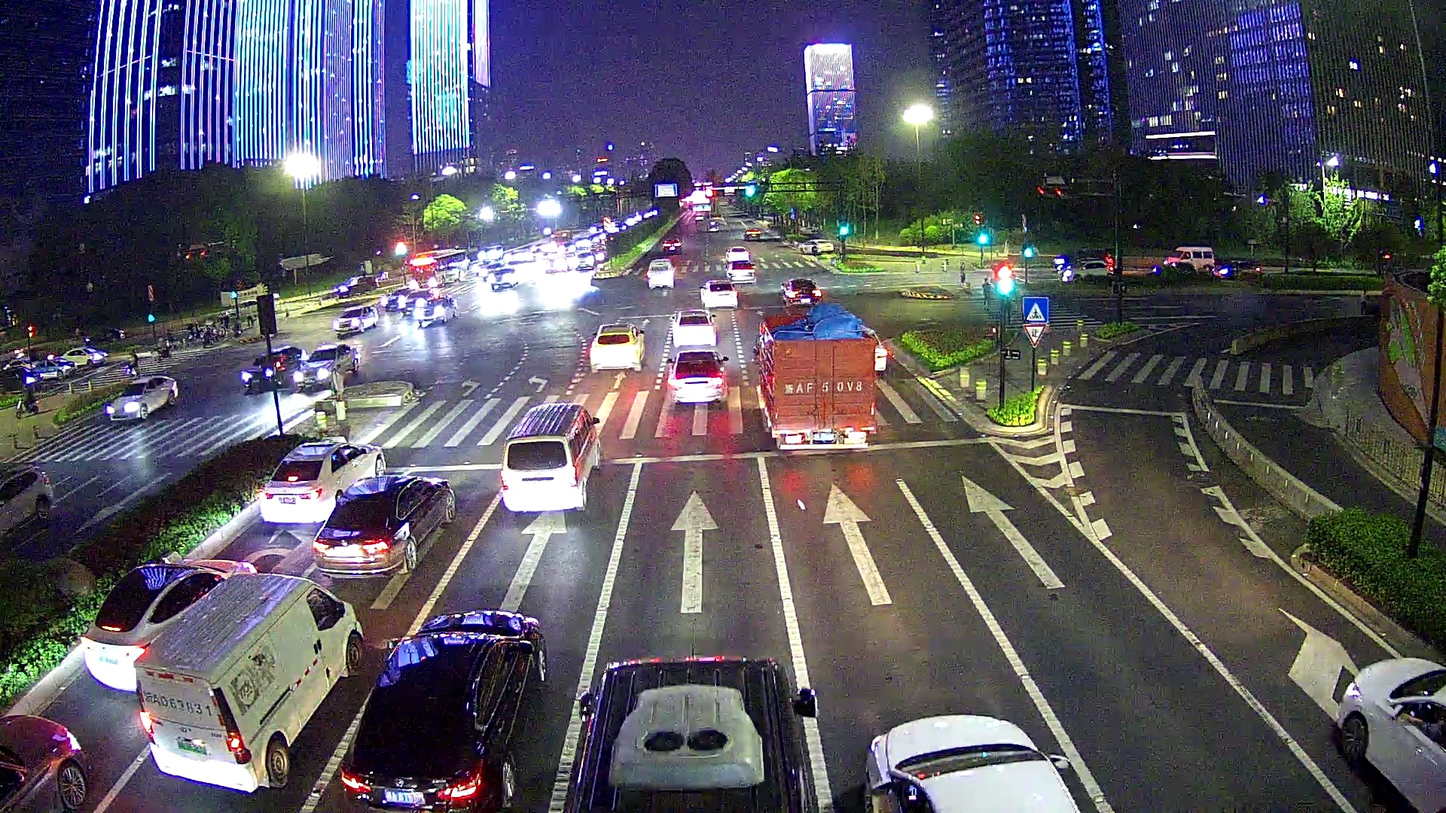vehicle: (135, 567, 362, 794), (343, 601, 552, 813), (563, 645, 828, 811), (77, 554, 255, 684), (859, 712, 1087, 813), (749, 302, 881, 460), (313, 467, 463, 583), (254, 434, 389, 531), (493, 401, 603, 516), (0, 707, 103, 813), (100, 368, 182, 425), (663, 346, 732, 411), (585, 317, 651, 377), (294, 341, 355, 388), (243, 345, 297, 390), (334, 303, 379, 335)
